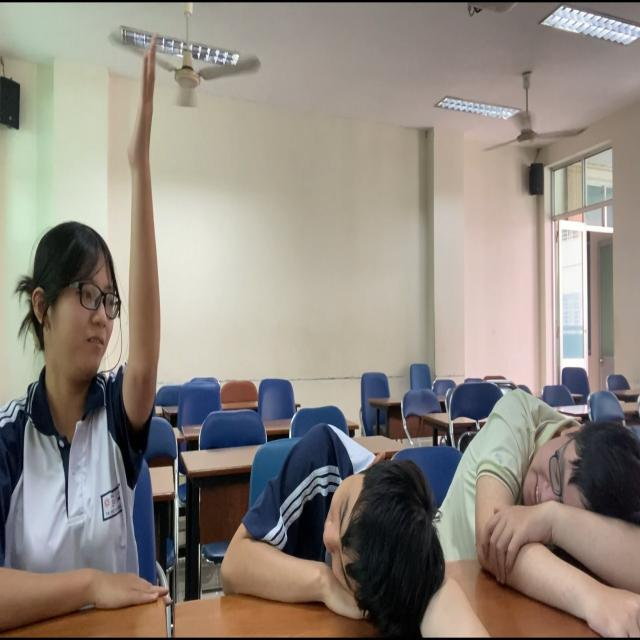raise_hand: (1, 33, 187, 640)
sleep: (418, 371, 640, 640), (214, 386, 440, 640)
